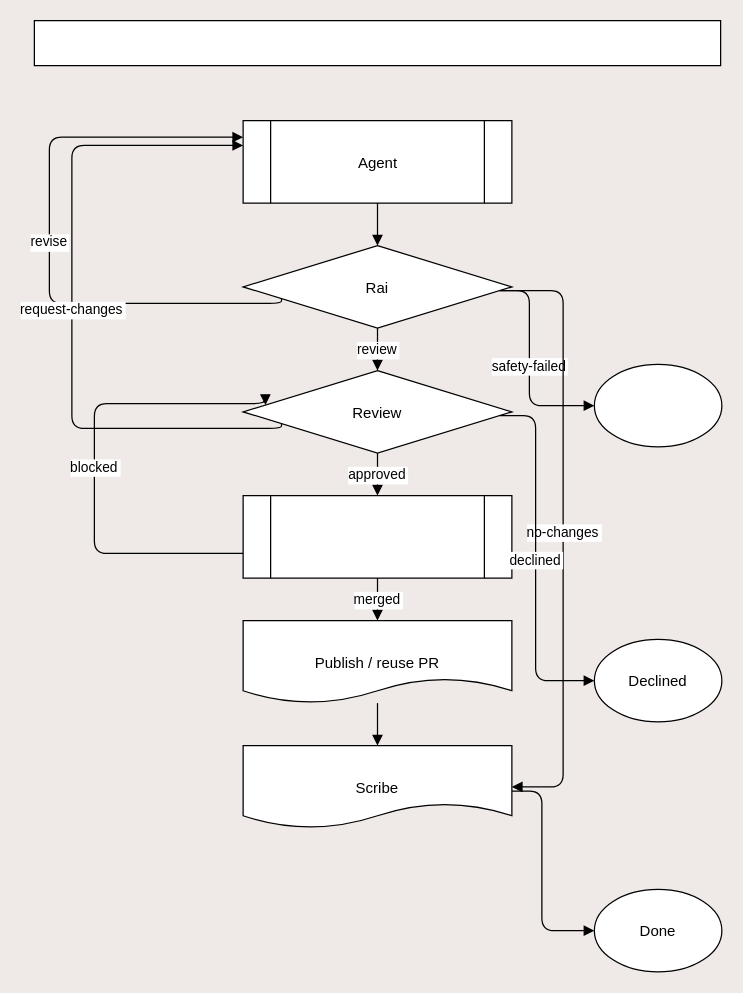
Image size: 743x993. Some labels were removed from this diagram. Each missing label, with the centre of its shape:
Generic default workflow: (377,42)
Merge: (377,536)
Safety failed: (657,405)
